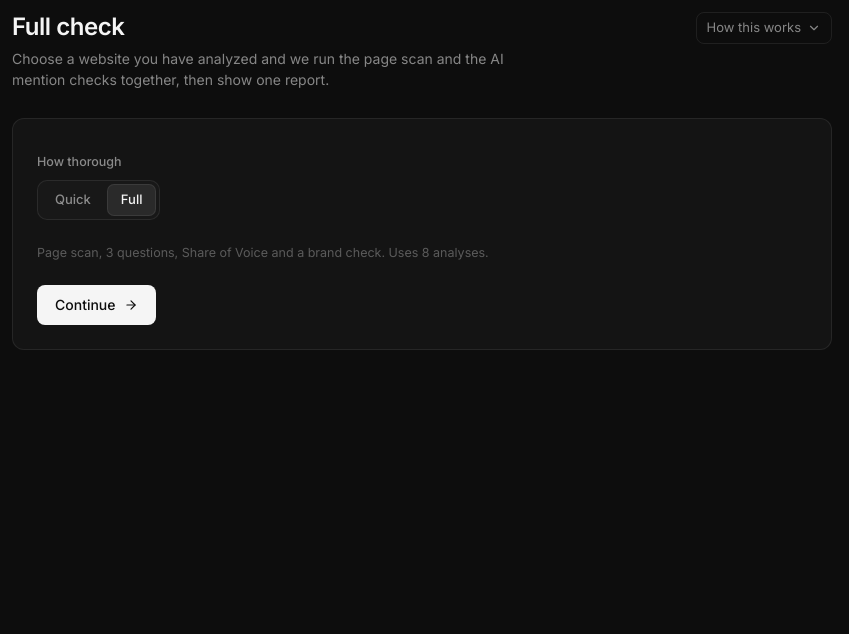
Scenario: Full check flow › blocks the run when the plan costs more analyses than the user has left
Click the button "Continue": (96, 304) [37,284,156,324]
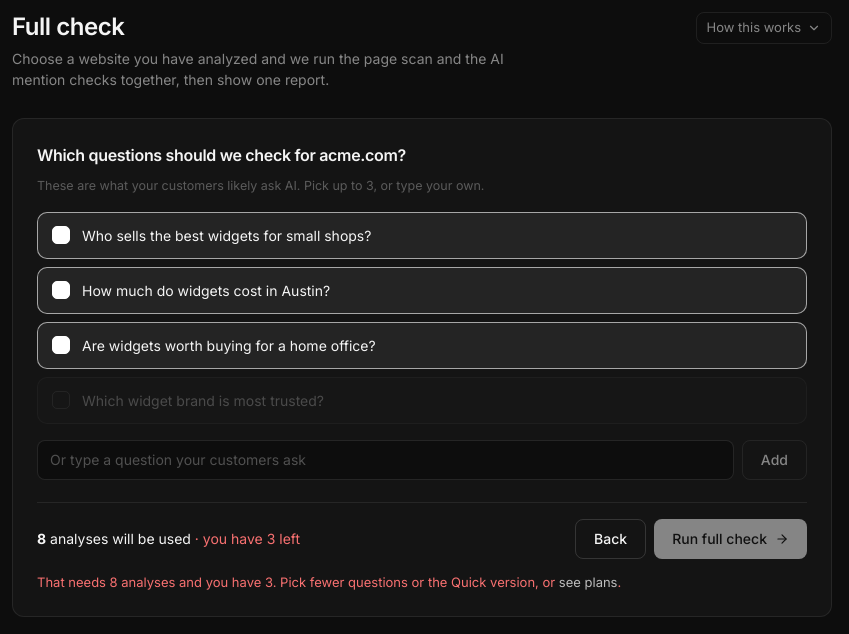
Now the button "Who sells the best widgets for small shops?" is shown, box [37,212,807,259]
Now the text "That needs 8 analyses and you have 3" is shown, box [37,574,621,590]
Now the button "Run full check" is disabled, box [654,519,807,559]
